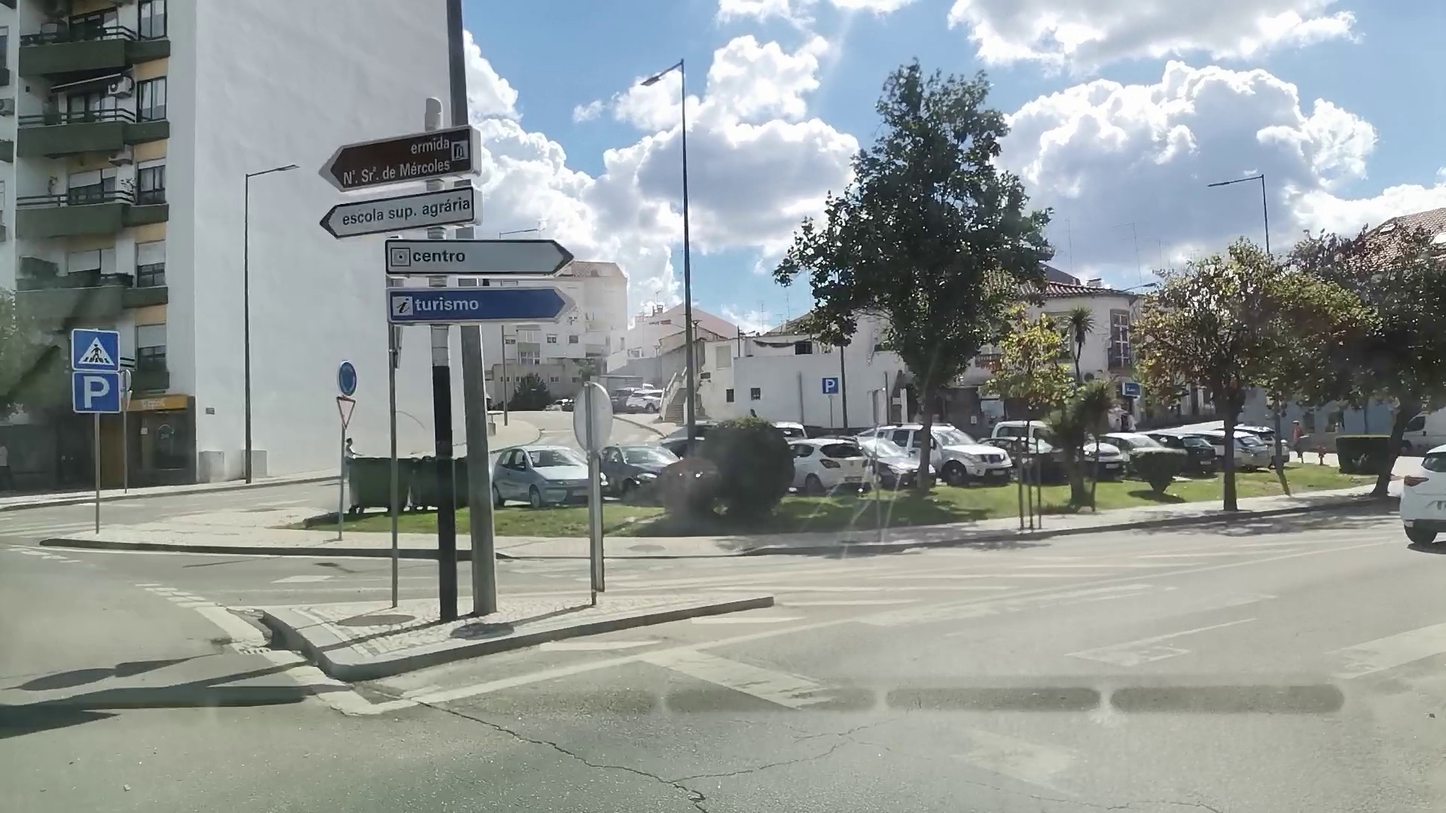Stairs: (841, 571, 1446, 686)
